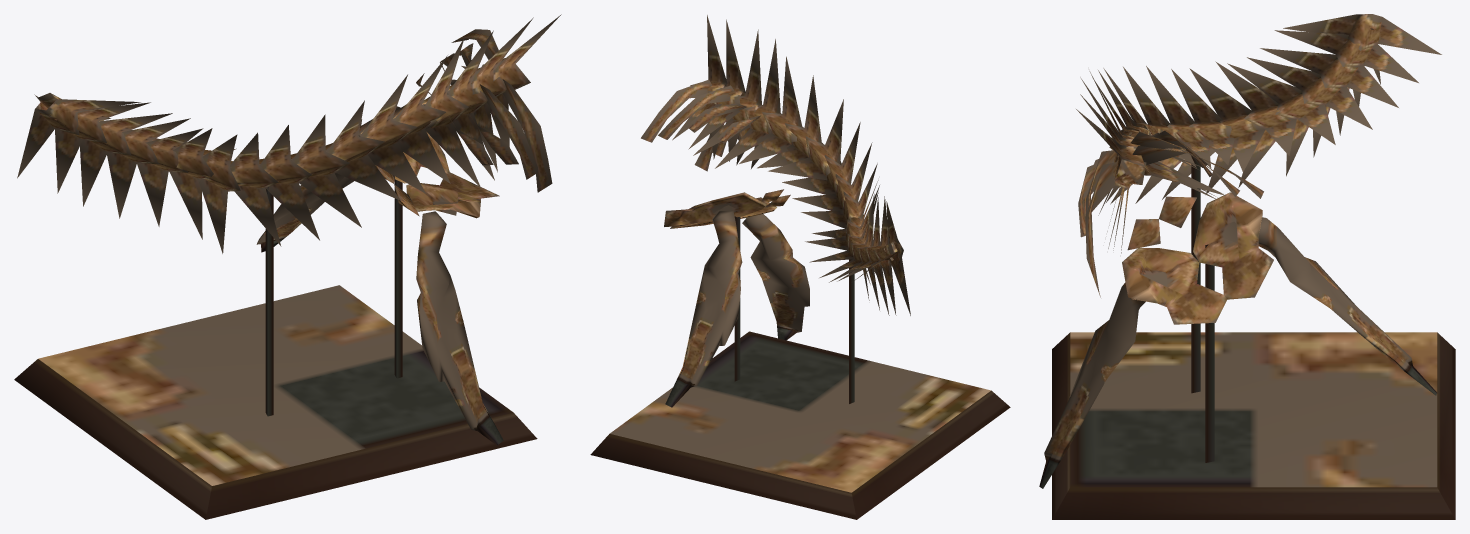
File: int_din_suz_b.dae
The picture shows the model from 3 angles, left to right: view 1: azimuth 30°, elevation 25°; view 2: azimuth 150°, elevation 25°; view 3: azimuth 270°, elevation 25°; orthographic projection. The views are drawn at different scales.
Visible parts, largest first — view 1: int_din_suz_b; view 2: int_din_suz_b; view 3: int_din_suz_b.
Part boxes in pixels (x1,y1,x2,y2): int_din_suz_b: [14, 14, 561, 519]; int_din_suz_b: [590, 15, 1010, 519]; int_din_suz_b: [1039, 14, 1455, 519].
Bounding box in the file's own units: 71.13 × 69.27 × 60.48.
Materials: 1 (1 with a texture image).
